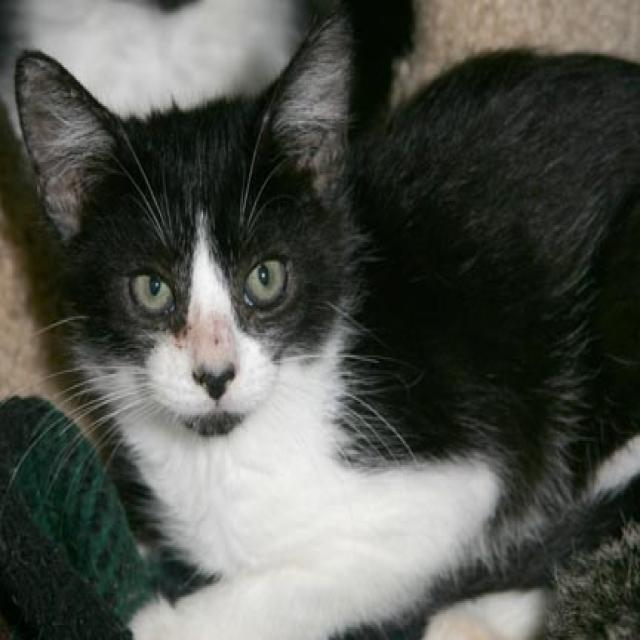Cats: (9, 0, 638, 638)
